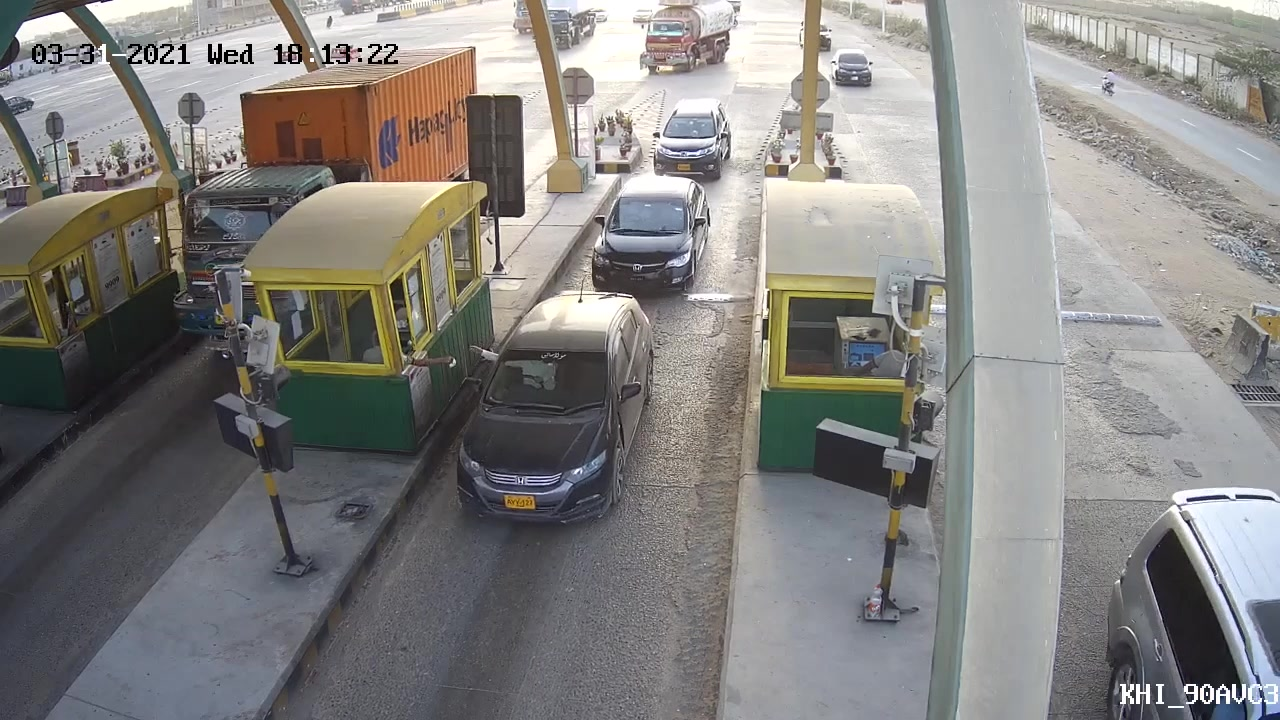F1: (442, 278, 659, 529), (586, 168, 714, 297)
